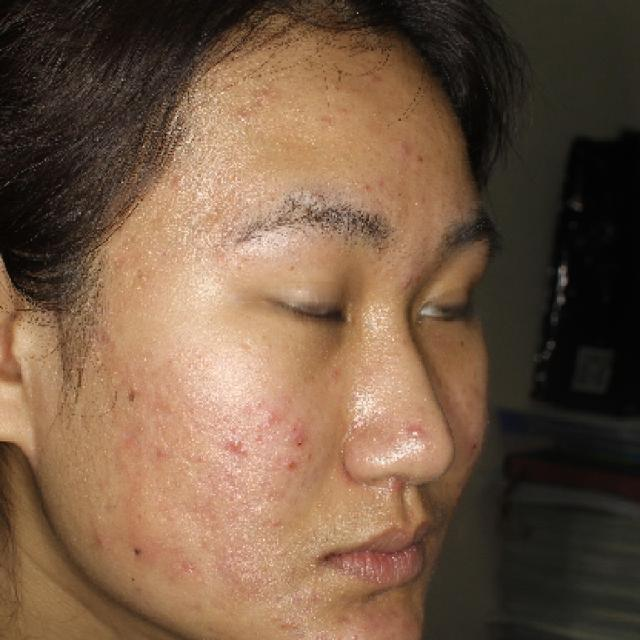Acne: (222, 432, 258, 468), (403, 414, 434, 446)
Blackheads: (120, 537, 148, 566), (122, 383, 140, 402)
